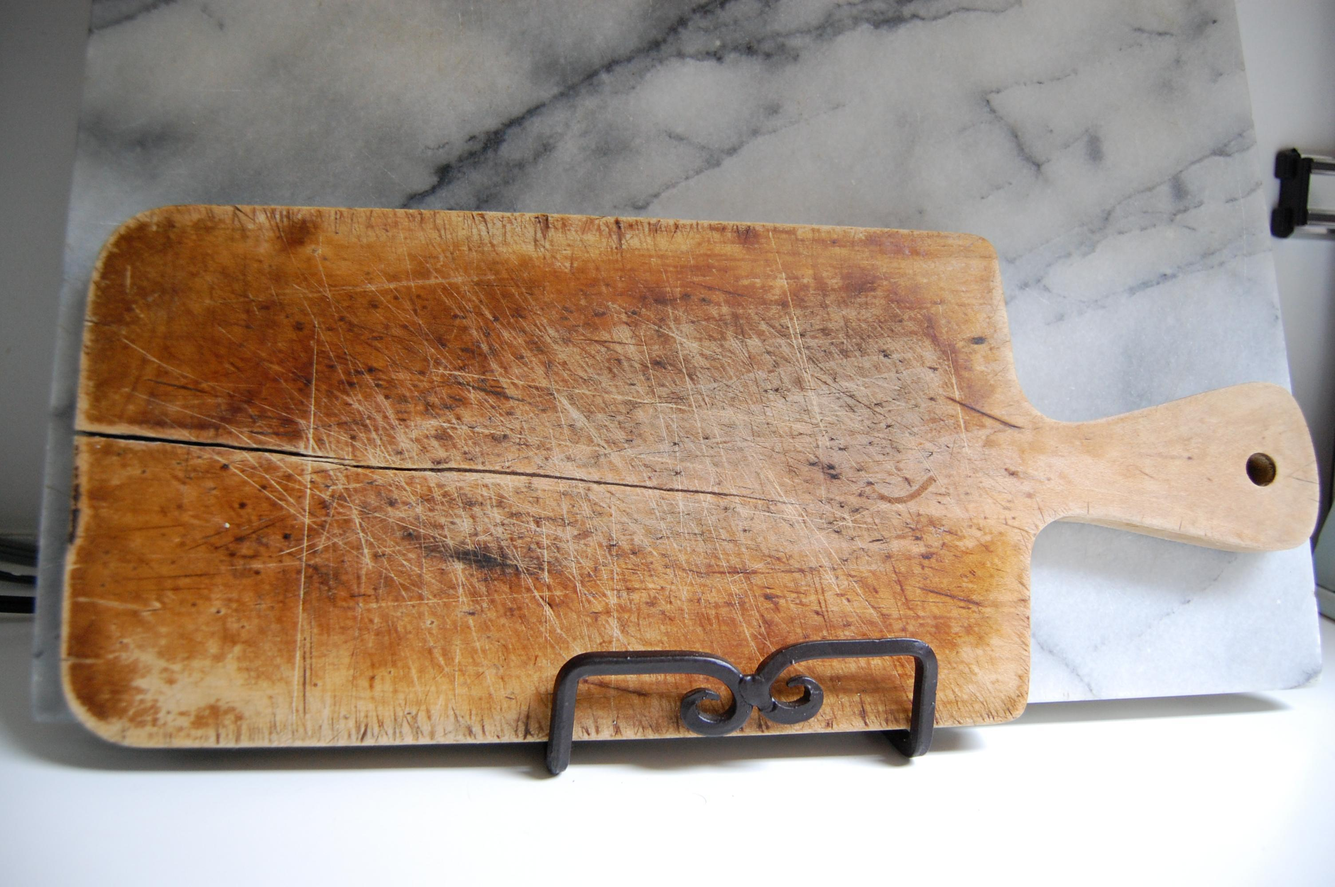gloved_hand: (56, 189, 1327, 773)
